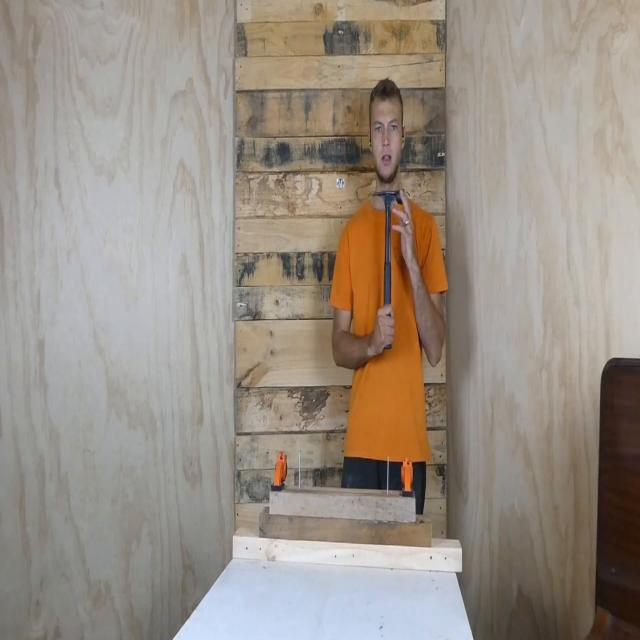hammer: (368, 186, 410, 354)
